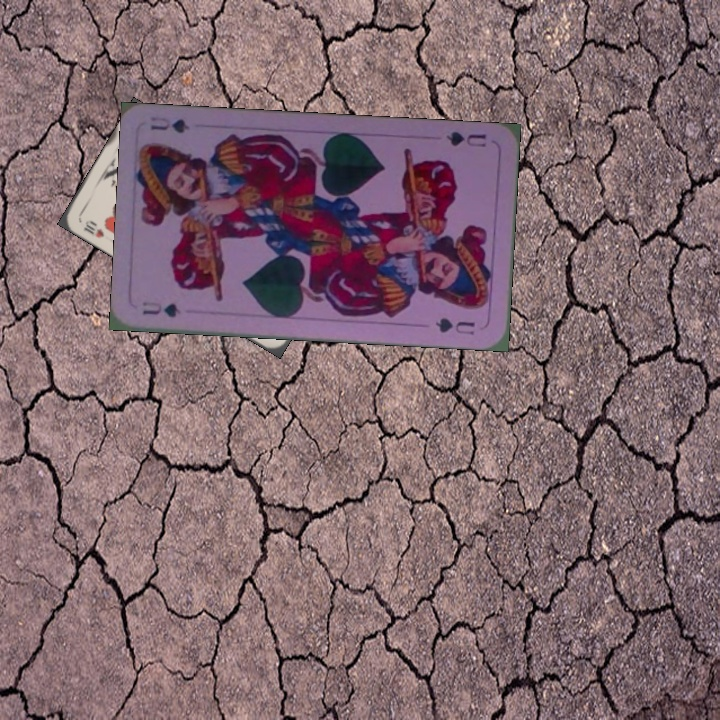GU: (442, 127, 489, 150), (138, 297, 184, 320)
H10: (79, 216, 107, 241)
